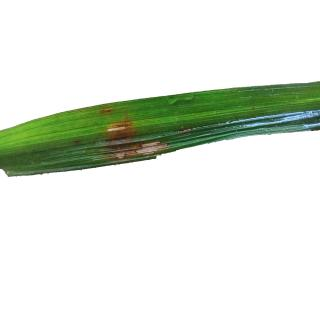Hawar-Daun: (104, 126, 130, 152), (138, 133, 166, 152), (178, 118, 197, 139), (98, 104, 116, 118)
